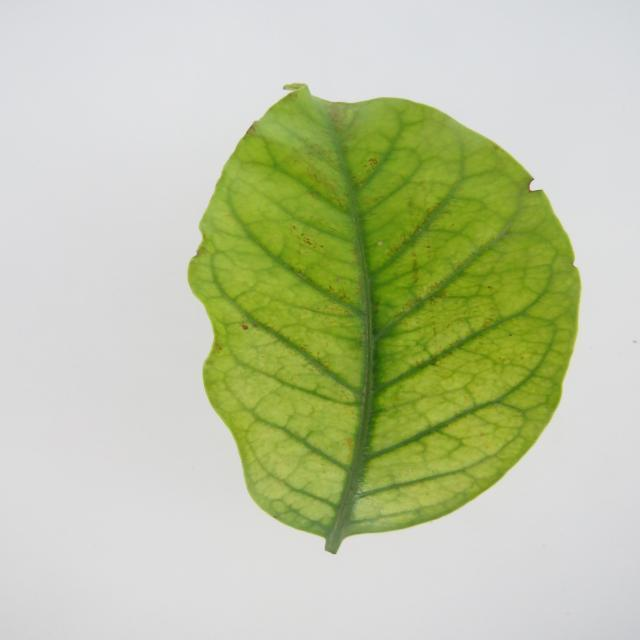DeficienciaNutricional-Hierro: (188, 84, 580, 552)
